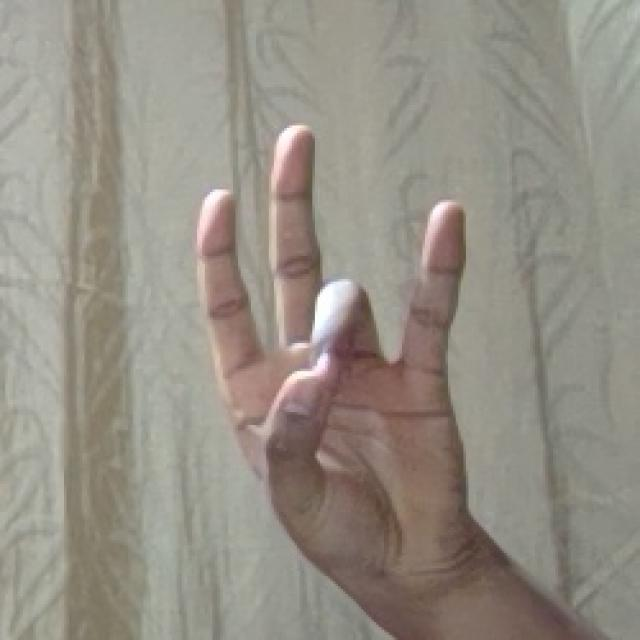Numeric-7: (193, 117, 473, 598)
